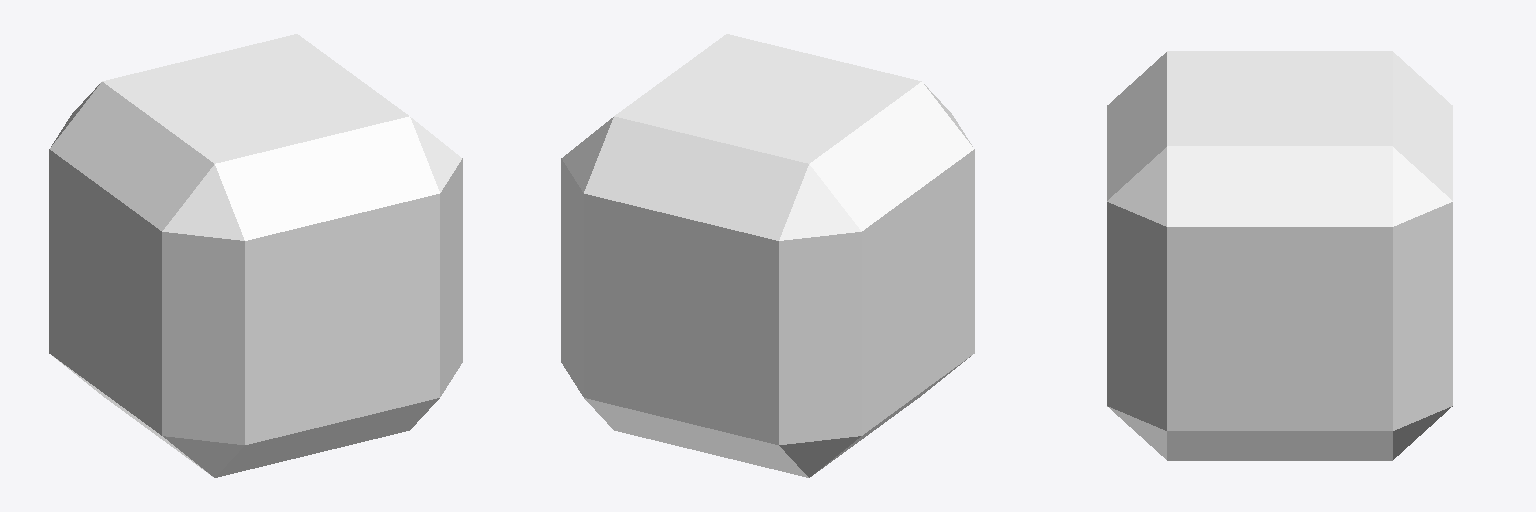
3 renders of one model, left to right at view 1: azimuth 30°, elevation 25°; view 2: azimuth 150°, elevation 25°; view 3: azimuth 270°, elevation 25°, orthographic.
Visible parts, largest first — view 1: Frame_Cube; view 2: Frame_Cube; view 3: Frame_Cube.
Boxes of the visible parts, <box> form: Frame_Cube: <box>49,34,462,477</box>; Frame_Cube: <box>561,34,974,477</box>; Frame_Cube: <box>1107,51,1452,460</box>.
Size of the model in its own units: 2 by 2 by 2.
1 materials, 1 textured.